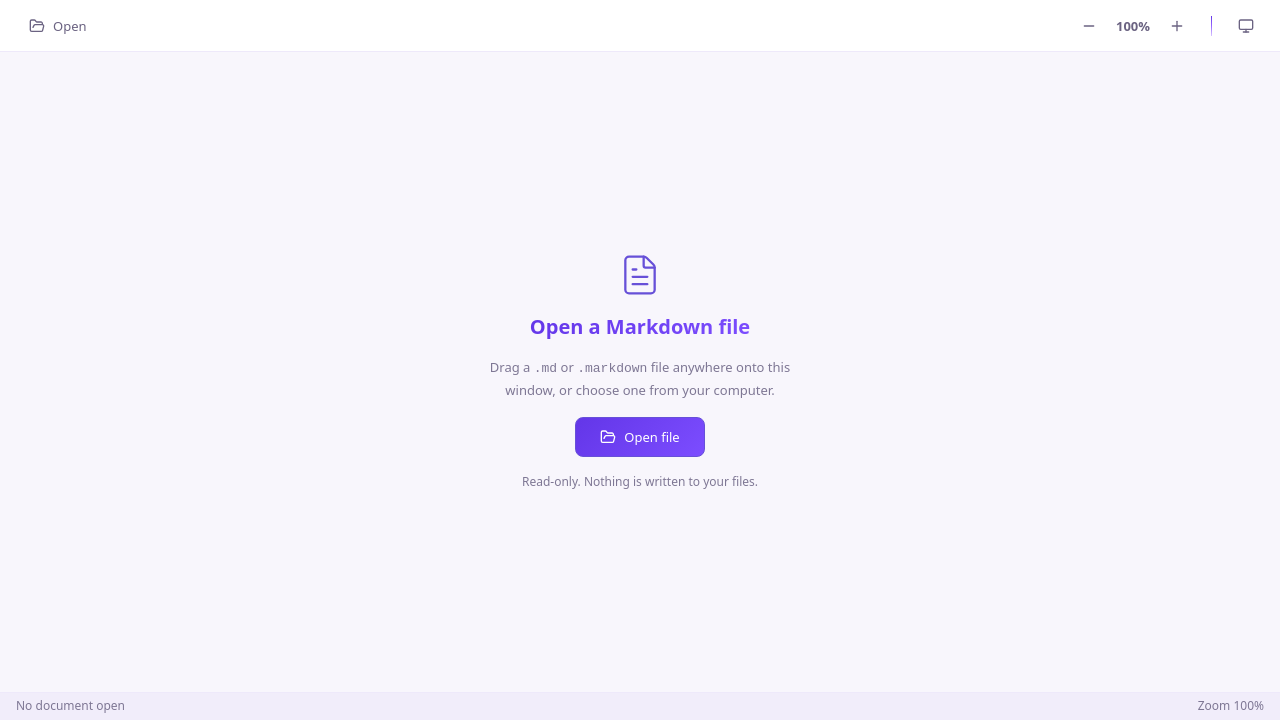
Test: file-level states › reports a refused read as denied, with actionable wording
Click the button "Open file".
click(640, 437)  # box [575, 417, 705, 457]
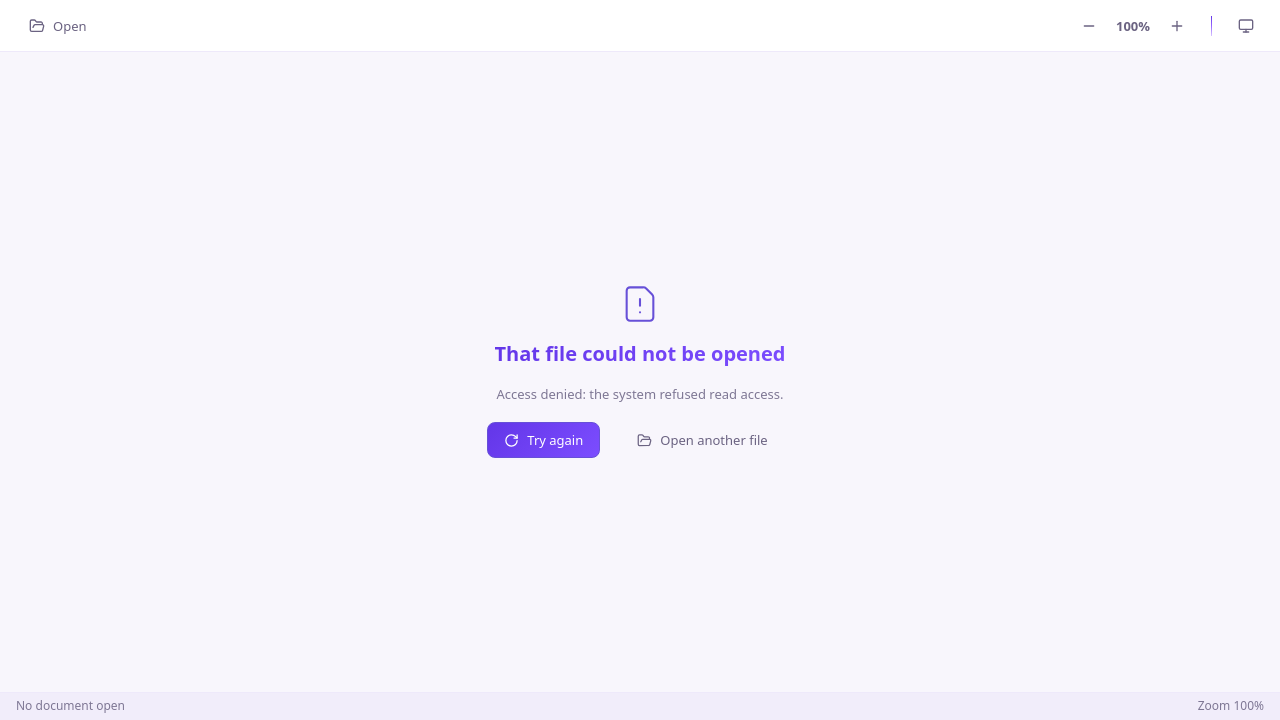
Expected: the message reads "Access denied: the system refused read access.", [496, 385, 784, 403]
